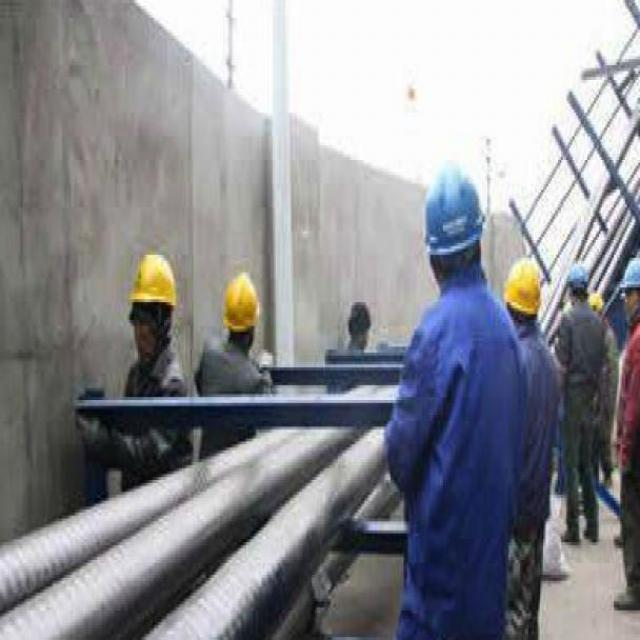helmet: (407, 154, 486, 308), (118, 234, 174, 362), (218, 261, 260, 355), (502, 237, 540, 331), (609, 237, 638, 338)
